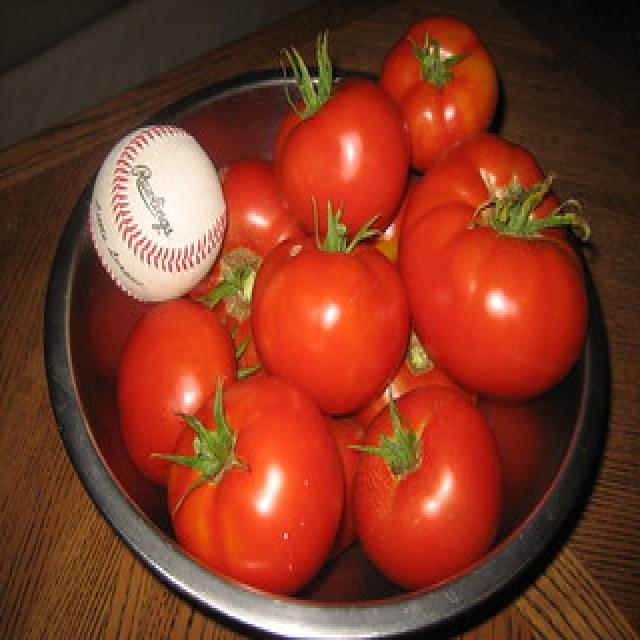Tomato: (398, 133, 592, 402), (157, 370, 346, 602), (352, 383, 504, 592), (249, 221, 412, 411), (272, 70, 412, 242)
